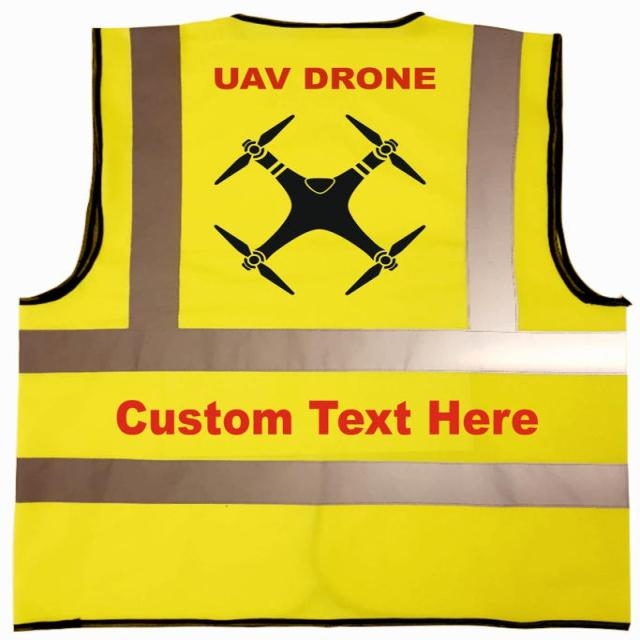drone: (199, 112, 447, 298)
